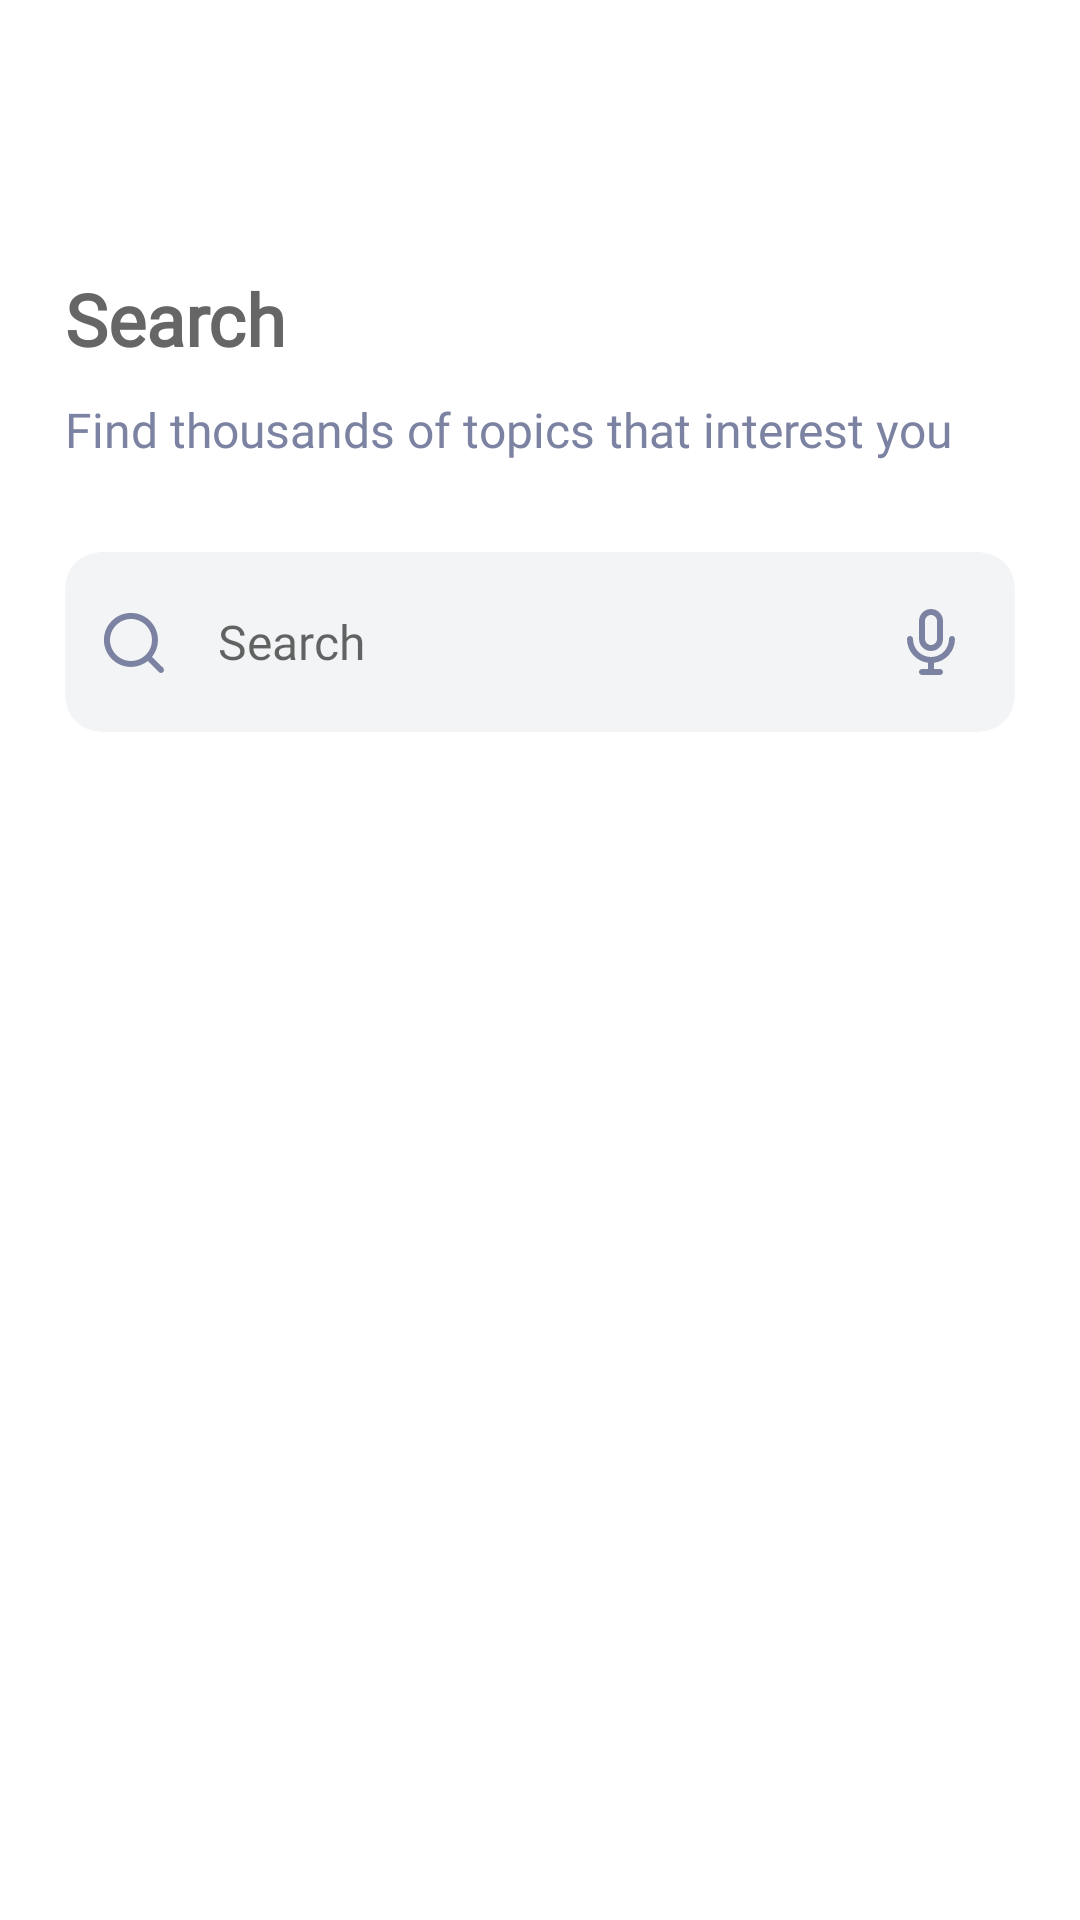

Named icons in this screenshot (1080 × 1920) and their bounding boxes, rect(x1, y1, x2, y2):
microphone: rect(907, 609, 955, 675)
